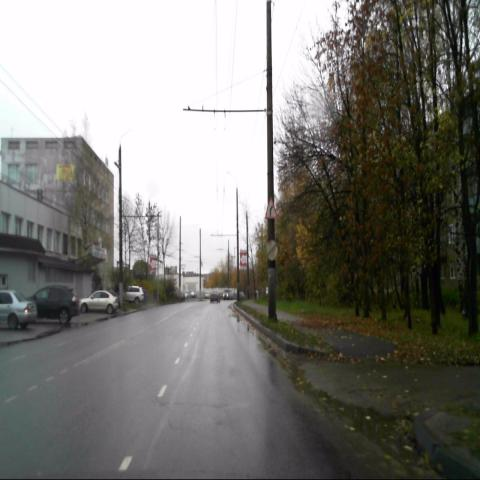1_11: (265, 197, 278, 219)
3_31: (266, 239, 278, 261)
